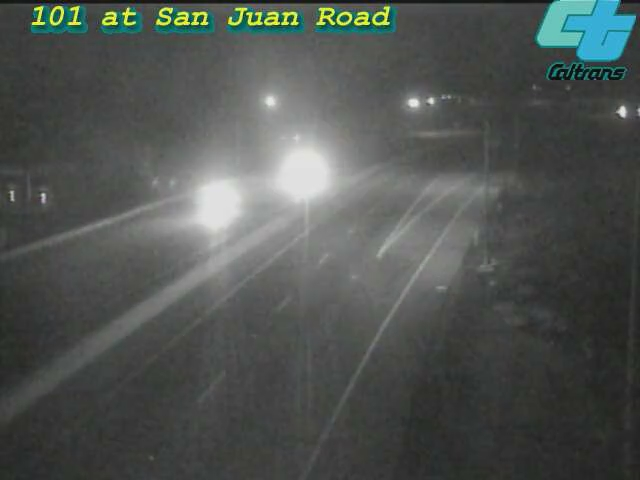vehicle: (178, 160, 258, 240), (260, 134, 340, 214), (597, 87, 640, 137)
